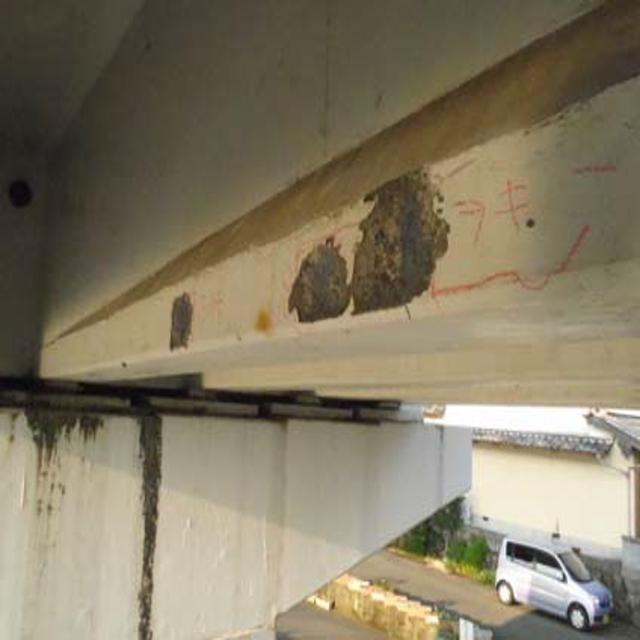leakage: (130, 411, 179, 640), (27, 393, 116, 476)
spalling: (281, 156, 453, 333), (138, 280, 203, 374)
